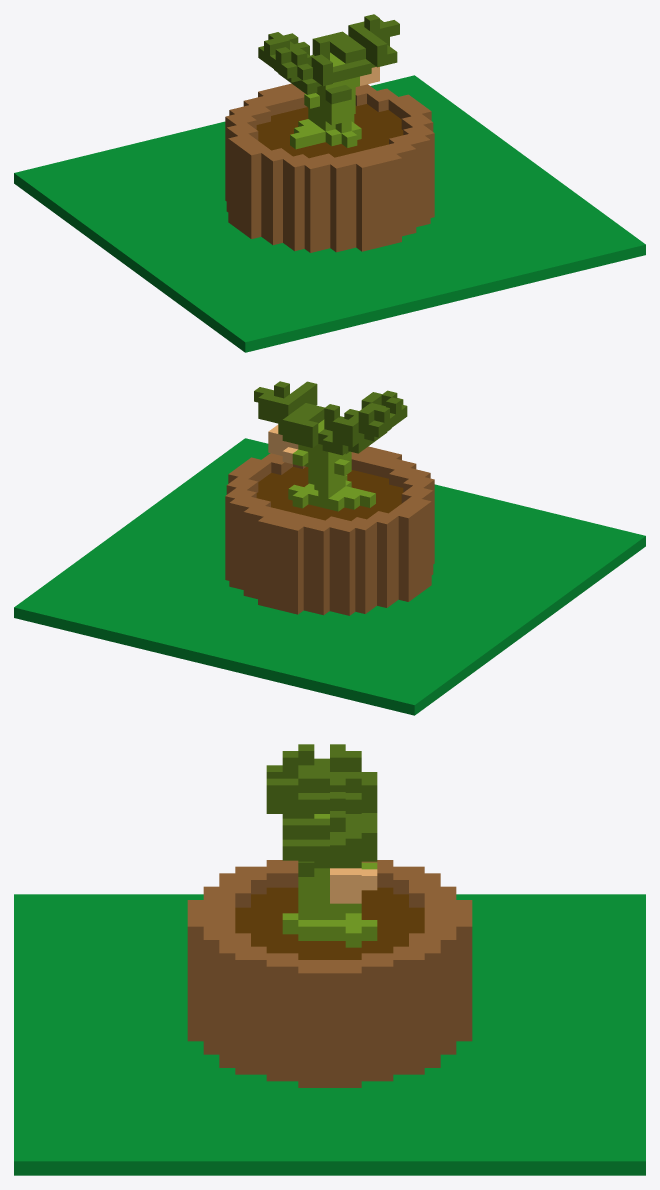
The model's file is Planta 5.glb.
3 views of the same model, one above another, from view 1: azimuth 30°, elevation 25°; view 2: azimuth 150°, elevation 25°; view 3: azimuth 270°, elevation 25° (orthographic). The views are drawn at different scales.
Visible parts, largest first — view 1: _0; view 2: _0; view 3: _0.
Boxes of the visible parts, x1,y1,x2,y2 form: _0: (14,14,645,352); _0: (14,381,645,715); _0: (14,744,645,1175).
Bounding box in the file's own units: 40 × 18 × 40.
